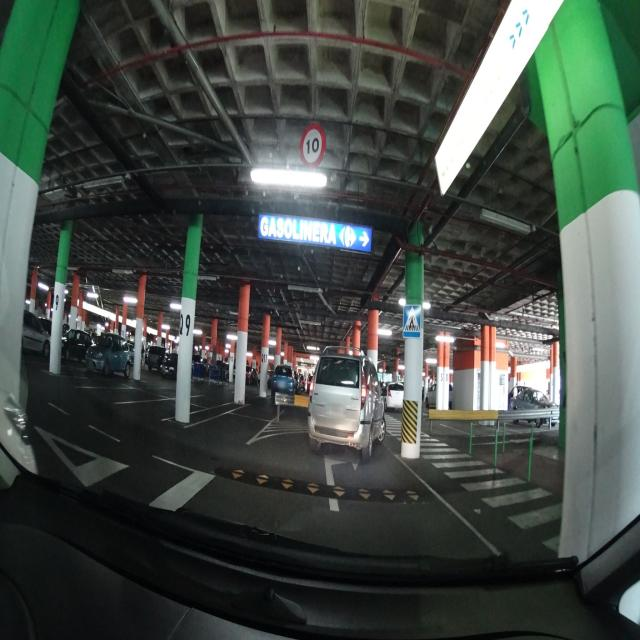car: (307, 350, 386, 461), (85, 333, 134, 378), (22, 308, 51, 356), (61, 327, 95, 361), (160, 352, 193, 379), (271, 364, 296, 399), (144, 344, 167, 371), (385, 382, 404, 412), (246, 363, 260, 385), (296, 373, 308, 394)
